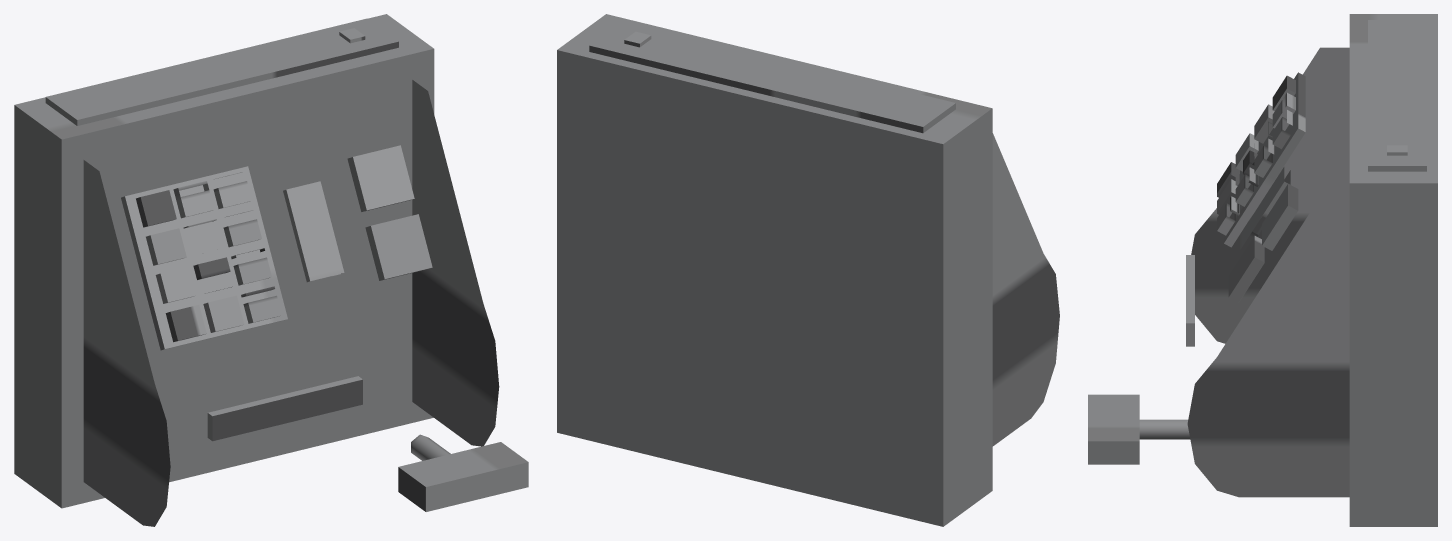
The picture shows the model from 3 angles, left to right: view 1: azimuth 30°, elevation 25°; view 2: azimuth 150°, elevation 25°; view 3: azimuth 270°, elevation 25°; orthographic projection. The views are drawn at different scales.
Bounding box in the file's own units: 0.544 × 0.5285 × 0.475.
